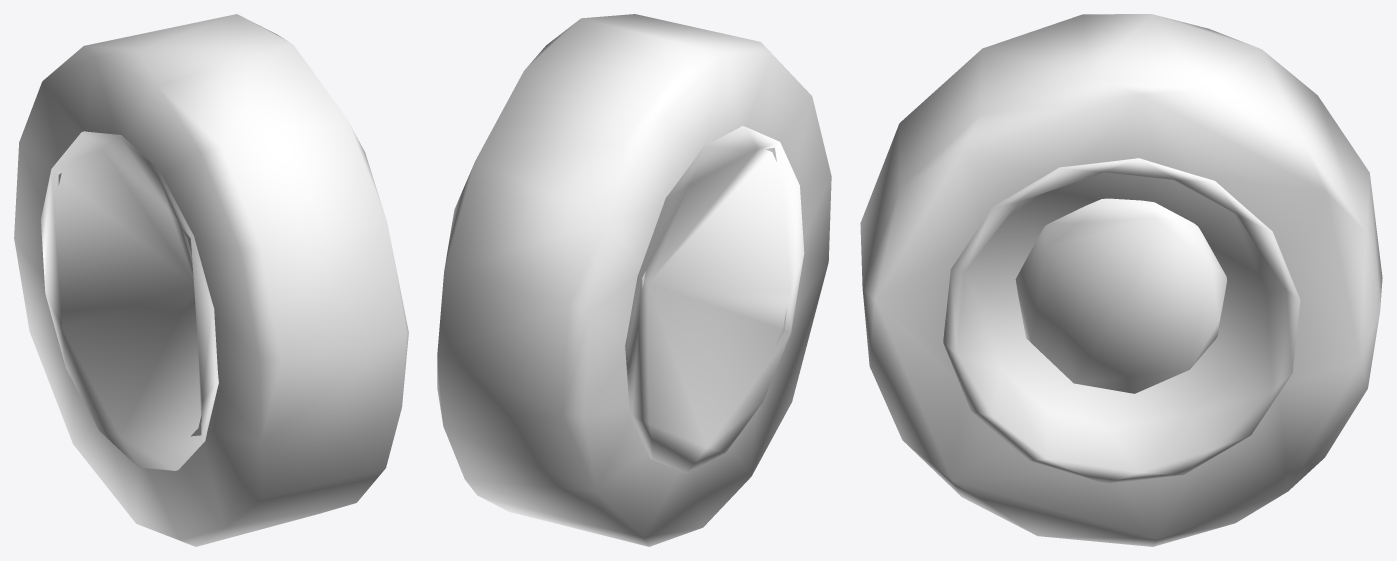
3 views of the same model, side by side, from view 1: azimuth 30°, elevation 25°; view 2: azimuth 150°, elevation 25°; view 3: azimuth 270°, elevation 25° (orthographic).
Bounding box in the file's own units: 0.1934 × 0.5086 × 0.5112.
Materials: 1 (1 with a texture image).
